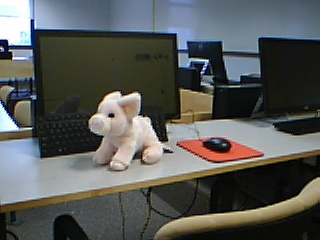piggy: (87, 89, 165, 172)
